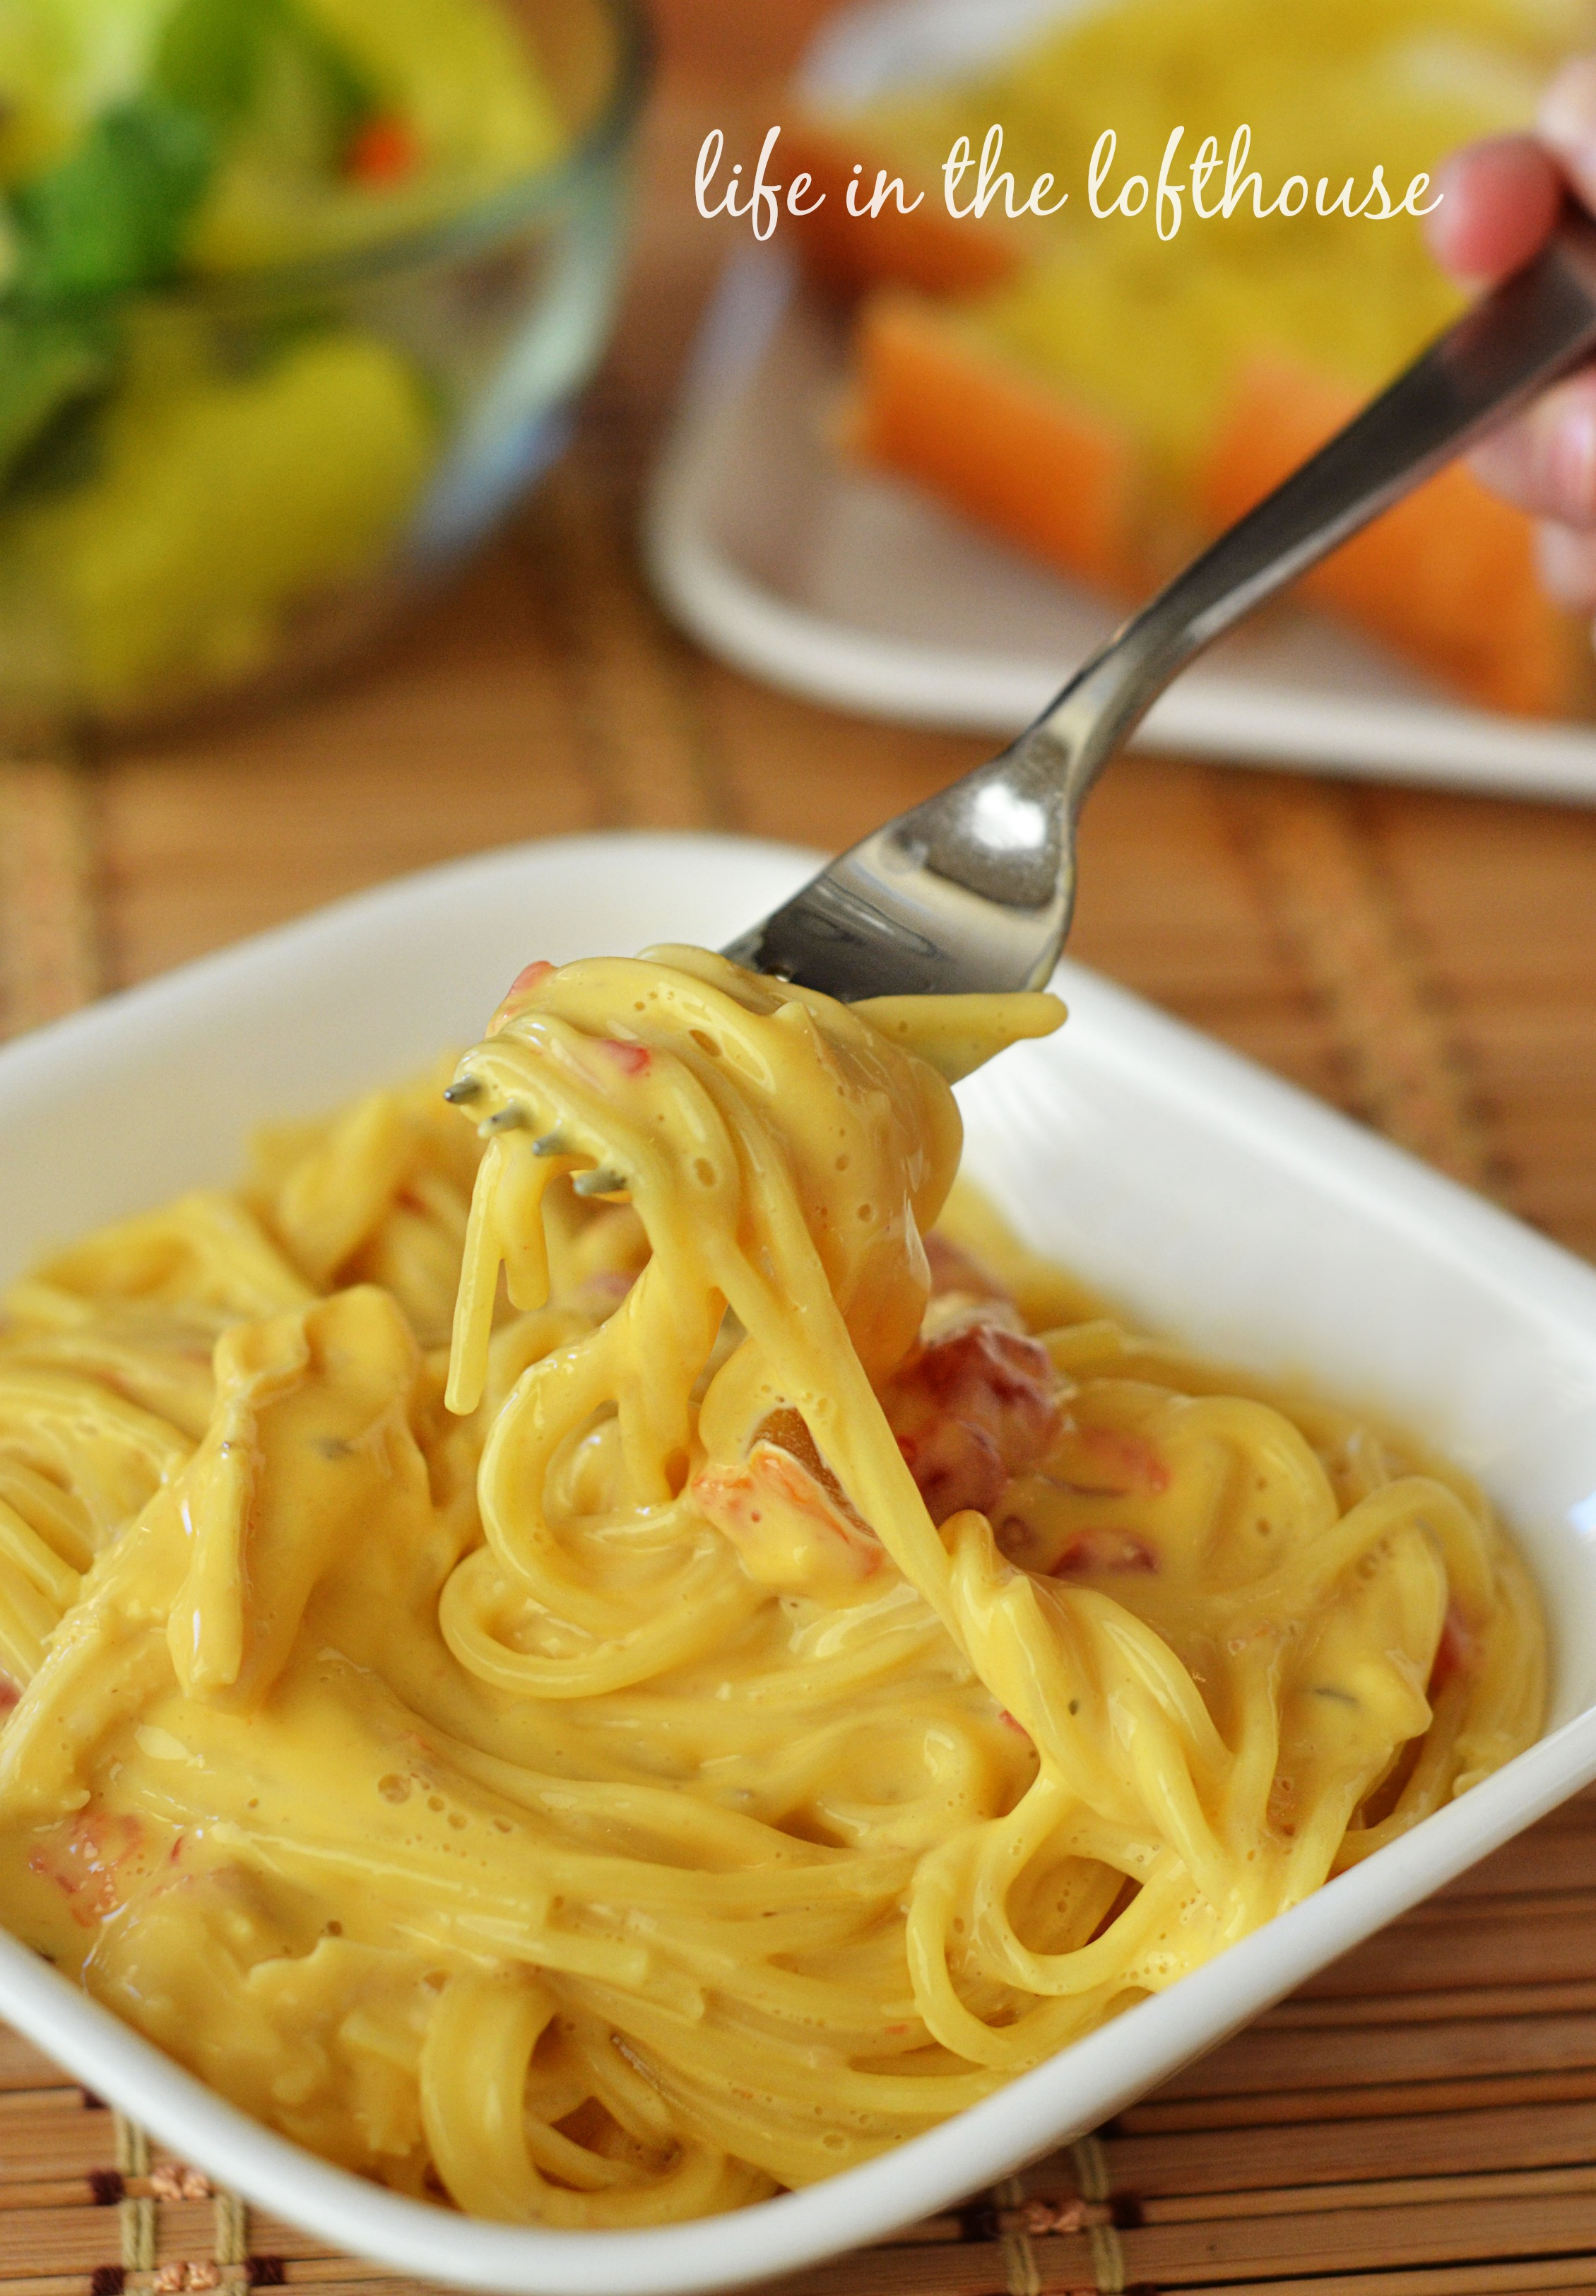plain spaghetti: (26, 1007, 1416, 2181)
